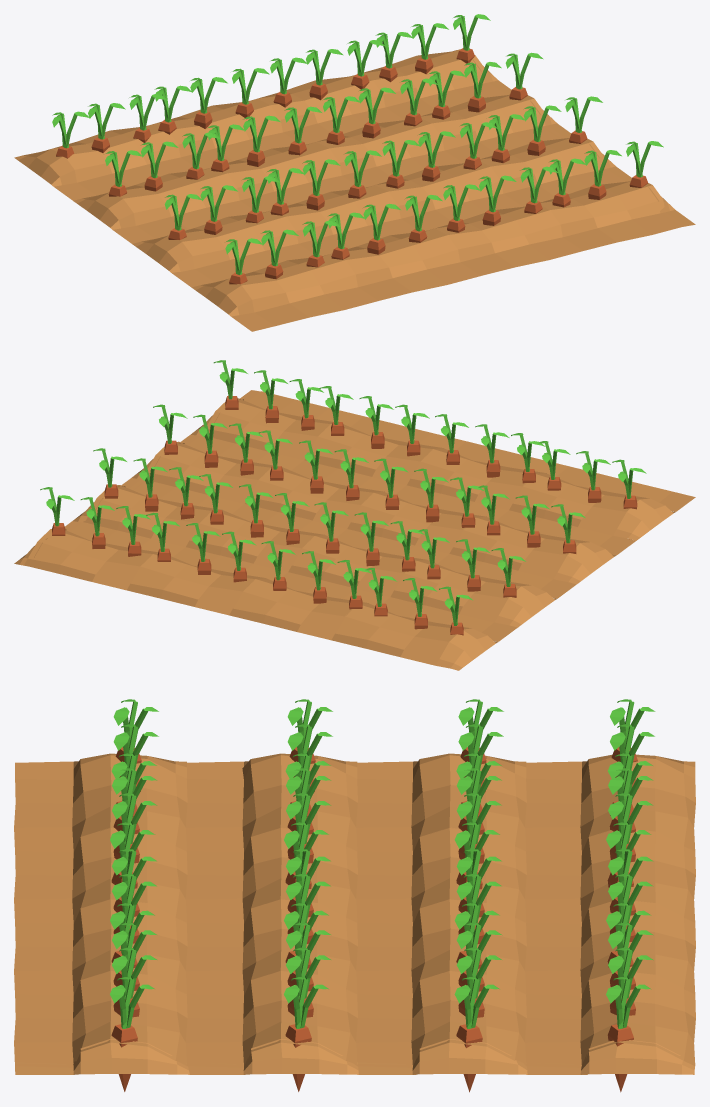
The model's file is campo_di_carote.glb.
The picture shows the model from 3 angles, top to bottom: view 1: azimuth 30°, elevation 25°; view 2: azimuth 150°, elevation 25°; view 3: azimuth 270°, elevation 25°; orthographic projection. The views are drawn at different scales.
Visible parts, largest first — view 1: Cylinder.001_Cylinder.001; view 2: Cylinder.001_Cylinder.001; view 3: Cylinder.001_Cylinder.001.
Boxes of the visible parts, bbox=[...] form: Cylinder.001_Cylinder.001: bbox=[14, 14, 695, 331]; Cylinder.001_Cylinder.001: bbox=[14, 360, 695, 670]; Cylinder.001_Cylinder.001: bbox=[14, 699, 695, 1092].
Size of the model in its own units: 1.09 by 0.1893 by 1.01.
